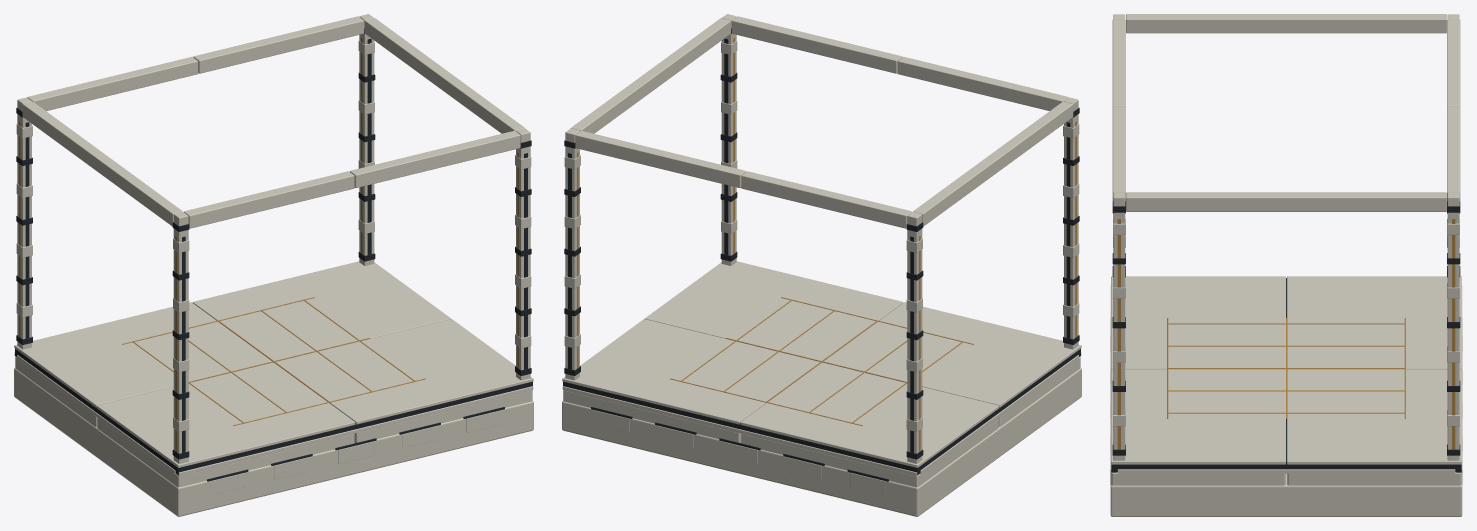
Rendered from SM_Aurelion_KIT_Z07ReformationCapture.fbx.
The picture shows the model from 3 angles, left to right: view 1: azimuth 30°, elevation 25°; view 2: azimuth 150°, elevation 25°; view 3: azimuth 270°, elevation 25°; orthographic projection. The views are drawn at different scales.
Visible parts, largest first — view 1: SM_Aurelion_KIT_Z07ReformationCapture; view 2: SM_Aurelion_KIT_Z07ReformationCapture; view 3: SM_Aurelion_KIT_Z07ReformationCapture.
Boxes of the visible parts, x1,y1,x2,y2 form: SM_Aurelion_KIT_Z07ReformationCapture: (14,14,533,516); SM_Aurelion_KIT_Z07ReformationCapture: (562,14,1081,516); SM_Aurelion_KIT_Z07ReformationCapture: (1110,14,1462,516).
Size of the model in its own units: 500 by 401 by 400.
